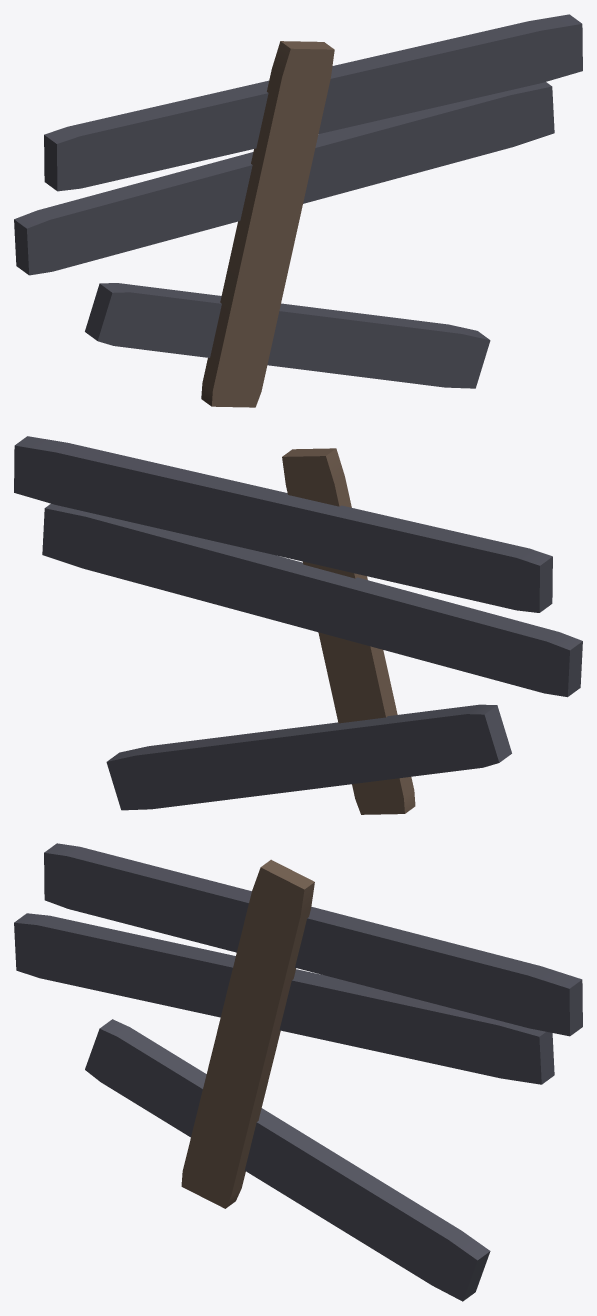
The model's file is SM_Prop_Shanty_BuildingAttachment_04.glb.
3 views of the same model, one above another, from view 1: azimuth 30°, elevation 25°; view 2: azimuth 150°, elevation 25°; view 3: azimuth 330°, elevation 25° (orthographic).
Visible parts, largest first — view 1: SM_Prop_Shanty_BuildingAttachment_04; view 2: SM_Prop_Shanty_BuildingAttachment_04; view 3: SM_Prop_Shanty_BuildingAttachment_04.
Part boxes in pixels (<box>): SM_Prop_Shanty_BuildingAttachment_04: <box>14,14,582,407</box>; SM_Prop_Shanty_BuildingAttachment_04: <box>14,436,582,814</box>; SM_Prop_Shanty_BuildingAttachment_04: <box>14,843,582,1301</box>.
Size of the model in its own units: 0.0273 by 0.0185 by 0.00184.
